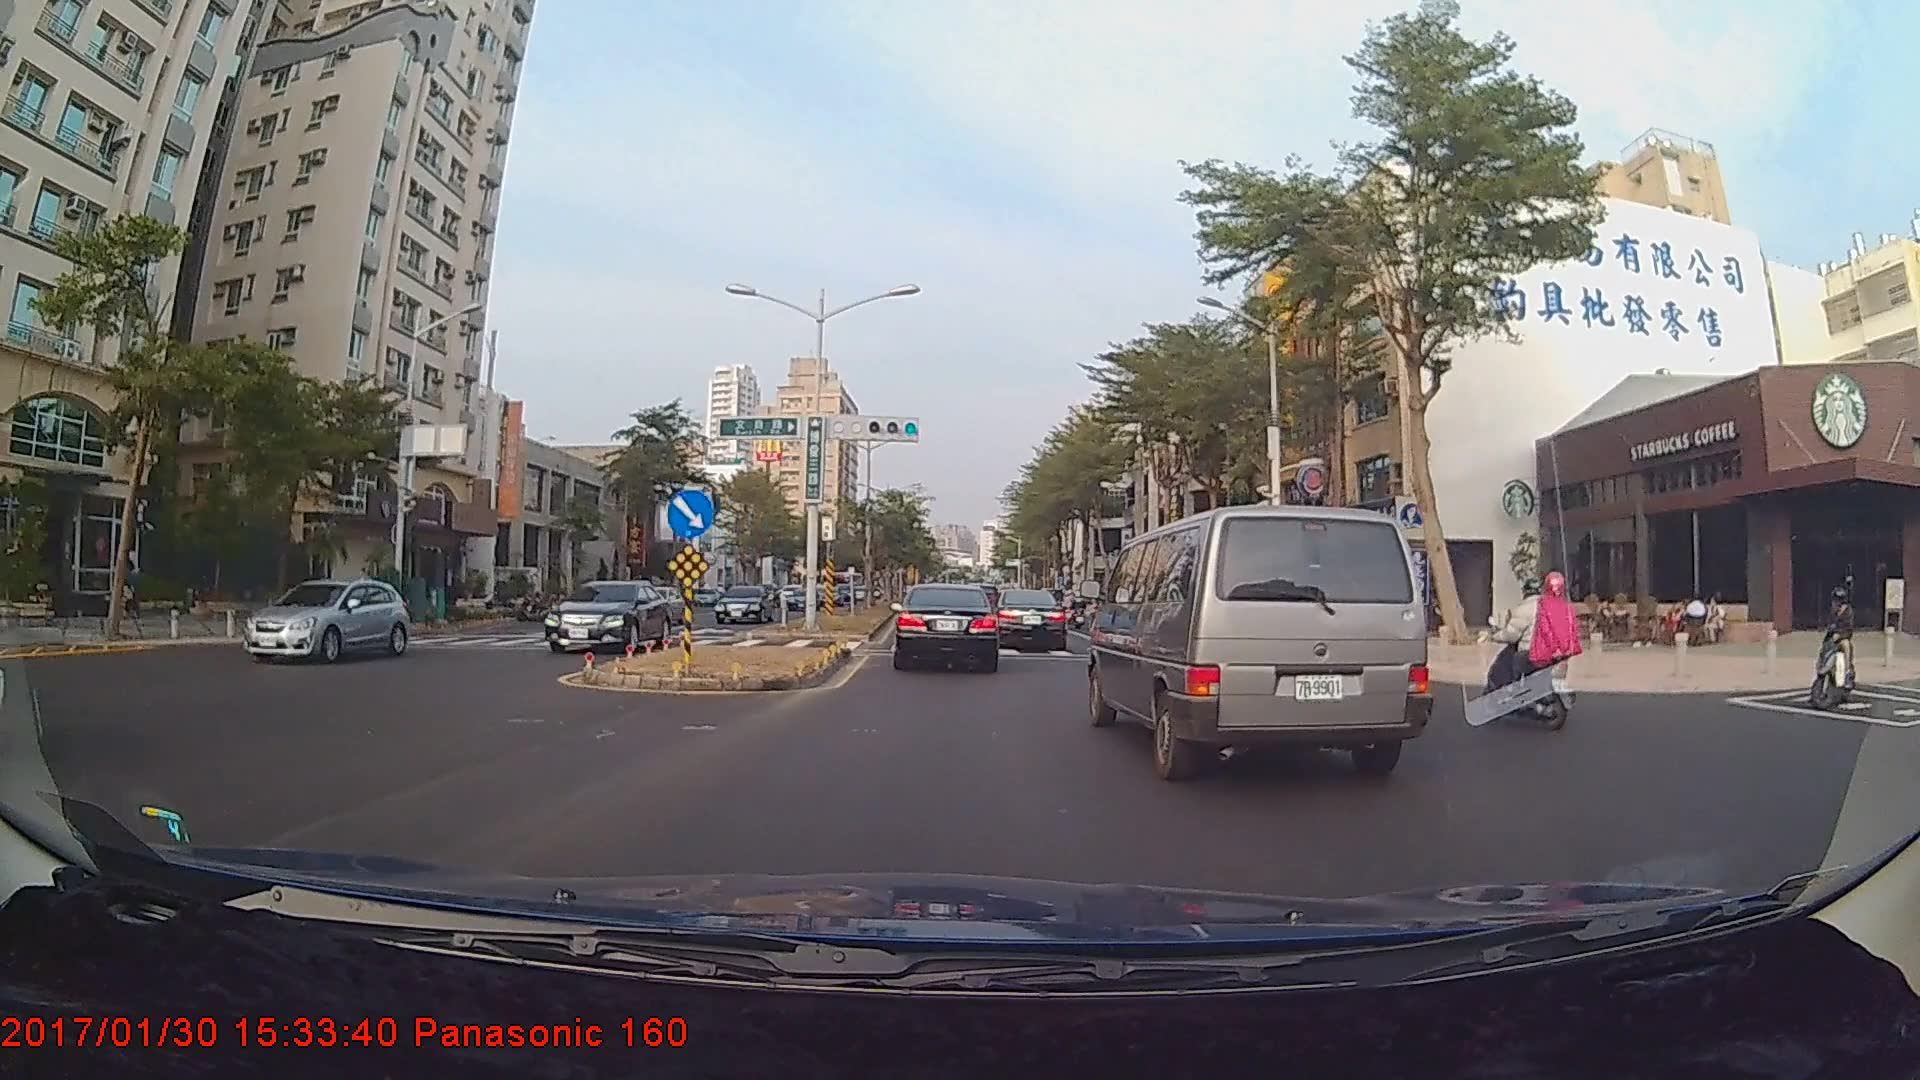rider: (1477, 560, 1590, 732), (1798, 581, 1874, 710)
vehicle: (1094, 498, 1429, 779), (241, 574, 404, 664), (891, 583, 1001, 672), (543, 579, 671, 653), (991, 587, 1068, 652), (712, 584, 773, 624)
